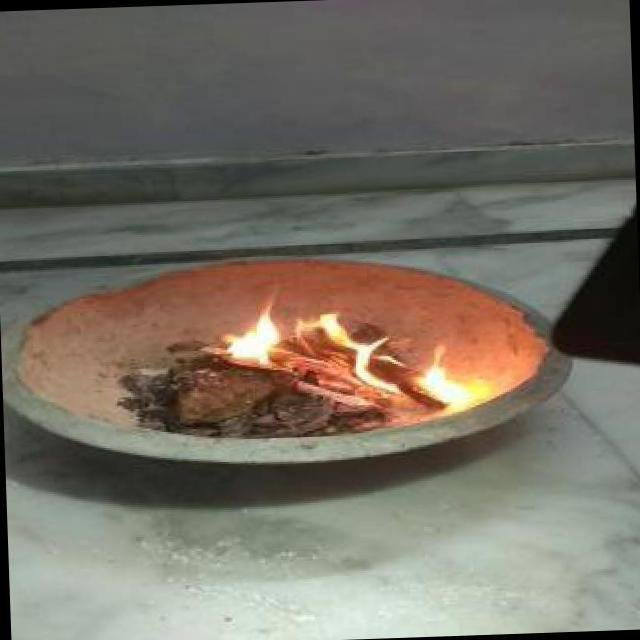Fire: (199, 289, 294, 370), (306, 307, 390, 388), (411, 338, 483, 408)
